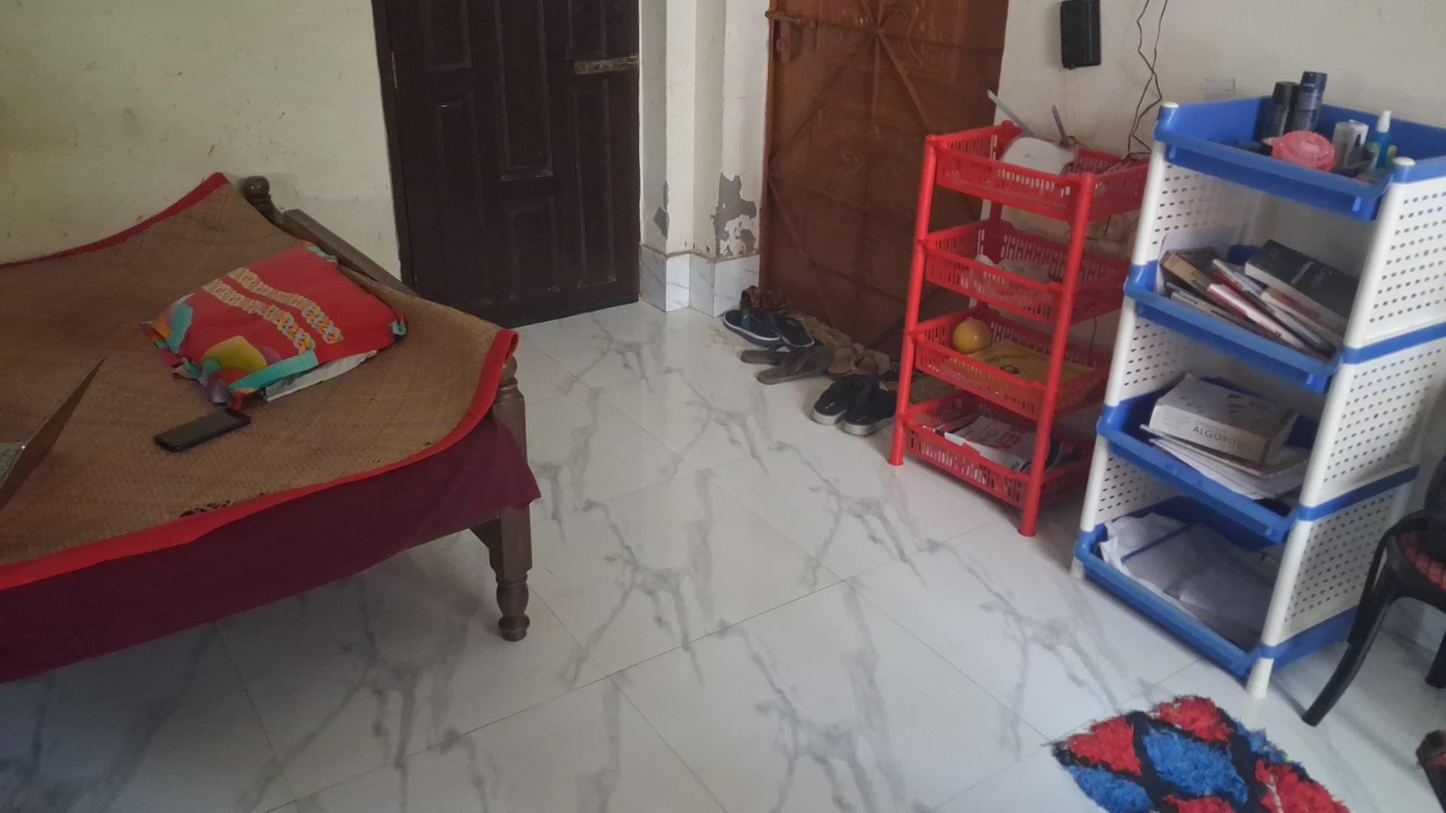Book: (1146, 378, 1294, 464)
Chair: (1300, 453, 1445, 729)
Floor Mat: (1055, 697, 1358, 813)
Footwear: (812, 374, 894, 436), (742, 344, 840, 385), (726, 308, 811, 346)
Phone: (151, 408, 250, 451)
Pillow: (148, 243, 411, 404)
Rack: (1075, 93, 1446, 678), (892, 121, 1159, 517)
